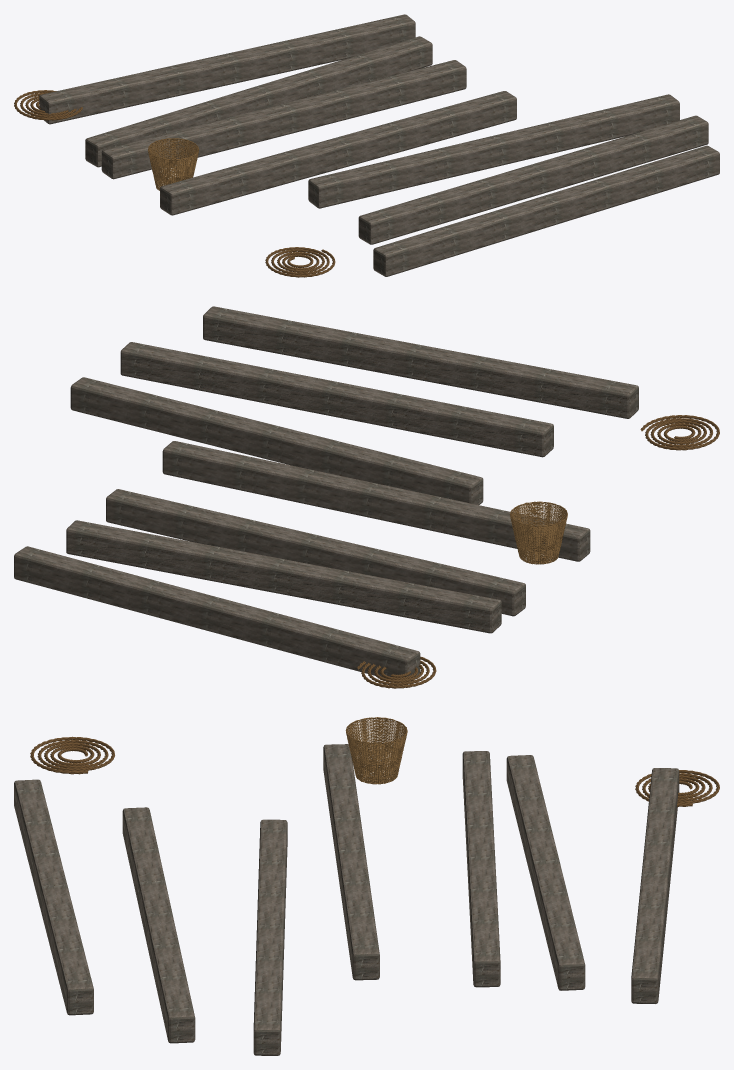
Rendered from maintenance.glb.
3 views of the same model, one above another, from view 1: azimuth 30°, elevation 25°; view 2: azimuth 150°, elevation 25°; view 3: azimuth 270°, elevation 25° (orthographic). The views are drawn at different scales.
Parts seen in each view (by area): view 1: Boat maintenance timber.002, Boat maintenance timber.003, Boat maintenance timber.006, Boat maintenance timber.001, Boat maintenance timber, Boat maintenance timber.004, Boat maintenance timber.005, HERO | basket fibres.007, HERO | three-strand rope.003, HERO | three-strand rope.004; view 2: Boat maintenance timber.005, Boat maintenance timber, Boat maintenance timber.001, Boat maintenance timber.006, Boat maintenance timber.002, Boat maintenance timber.003, Boat maintenance timber.004, HERO | basket fibres.007, HERO | three-strand rope.003, HERO | three-strand rope.004; view 3: Boat maintenance timber, Boat maintenance timber.005, Boat maintenance timber.001, Boat maintenance timber.003, Boat maintenance timber.006, Boat maintenance timber.004, Boat maintenance timber.002, HERO | basket fibres.007, HERO | three-strand rope.003, HERO | three-strand rope.004.
Part boxes in pixels (x1,y1,x2,y2): Boat maintenance timber.002: (308, 94, 679, 208); Boat maintenance timber.003: (160, 91, 516, 215); Boat maintenance timber.006: (39, 14, 415, 124); Boat maintenance timber.001: (358, 115, 708, 244); Boat maintenance timber: (373, 145, 719, 276); Boat maintenance timber.004: (101, 60, 466, 179); Boat maintenance timber.005: (85, 36, 432, 167); HERO | basket fibres.007: (148, 138, 199, 190); HERO | three-strand rope.003: (265, 247, 335, 277); HERO | three-strand rope.004: (14, 90, 82, 120); Boat maintenance timber.005: (66, 520, 501, 633); Boat maintenance timber: (203, 306, 638, 418); Boat maintenance timber.001: (120, 342, 553, 457); Boat maintenance timber.006: (14, 546, 420, 681); Boat maintenance timber.002: (70, 377, 483, 504); Boat maintenance timber.003: (162, 441, 590, 561); Boat maintenance timber.004: (106, 489, 525, 616); HERO | basket fibres.007: (509, 501, 567, 564); HERO | three-strand rope.003: (640, 415, 719, 450); HERO | three-strand rope.004: (357, 656, 436, 688); Boat maintenance timber: (14, 779, 93, 1015); Boat maintenance timber.005: (506, 755, 585, 990); Boat maintenance timber.001: (122, 807, 195, 1043); Boat maintenance timber.003: (323, 744, 379, 980); Boat maintenance timber.006: (631, 768, 679, 1003); Boat maintenance timber.004: (462, 751, 500, 987); Boat maintenance timber.002: (253, 819, 287, 1055); HERO | basket fibres.007: (345, 717, 407, 784); HERO | three-strand rope.003: (30, 736, 114, 774); HERO | three-strand rope.004: (635, 770, 719, 806).
Bounding box in the file's own units: 4.46 × 0.5115 × 4.67.
3 materials, 3 textured.
